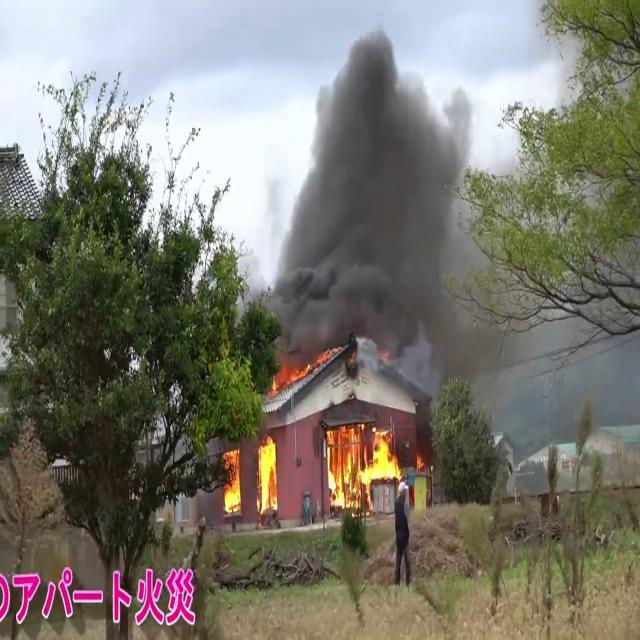Fire: (325, 414, 405, 512), (253, 434, 280, 508)
Smoke: (257, 22, 513, 388)
